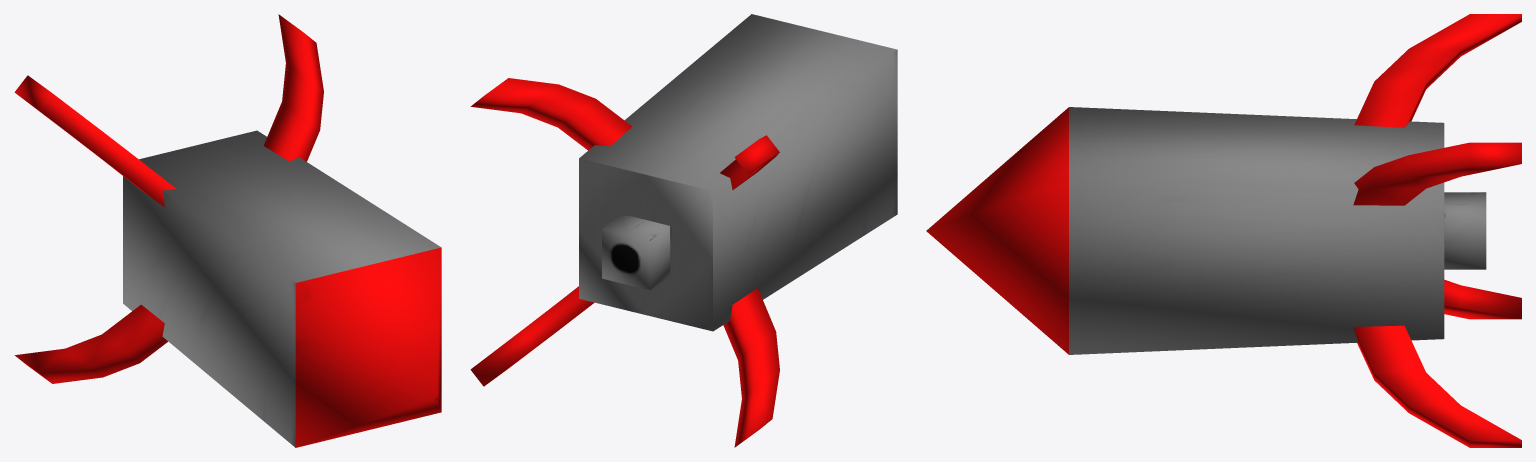
Rendered from rocket.fbx.
3 views of the same model, side by side, from view 1: azimuth 30°, elevation 25°; view 2: azimuth 150°, elevation 25°; view 3: azimuth 270°, elevation 25° (orthographic). The views are drawn at different scales.
Visible parts, largest first — view 1: Cube; view 2: Cube; view 3: Cube.
Part boxes in pixels (x1=…): Cube: x1=14, y1=14, x2=441, y2=447; Cube: x1=470, y1=14, x2=897, y2=447; Cube: x1=926, y1=14, x2=1521, y2=447.
Bounding box in the file's own units: 4.14 × 4.14 × 7.32.
Materials: 1 (1 with a texture image).
